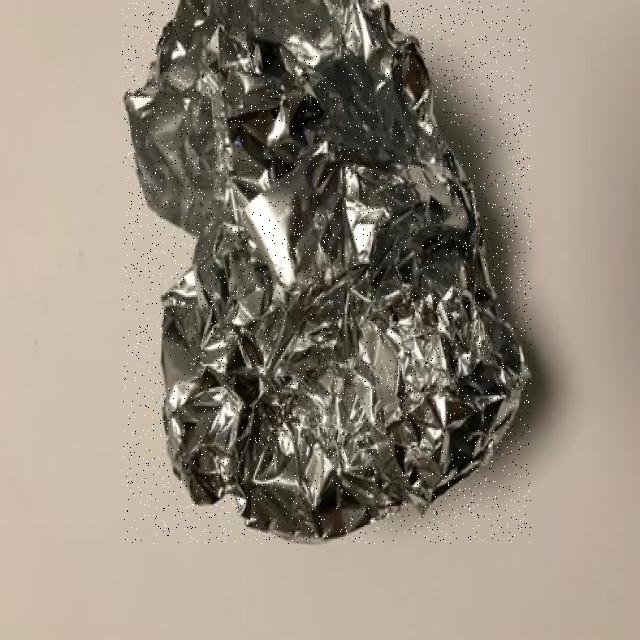metal: (122, 1, 531, 543)
